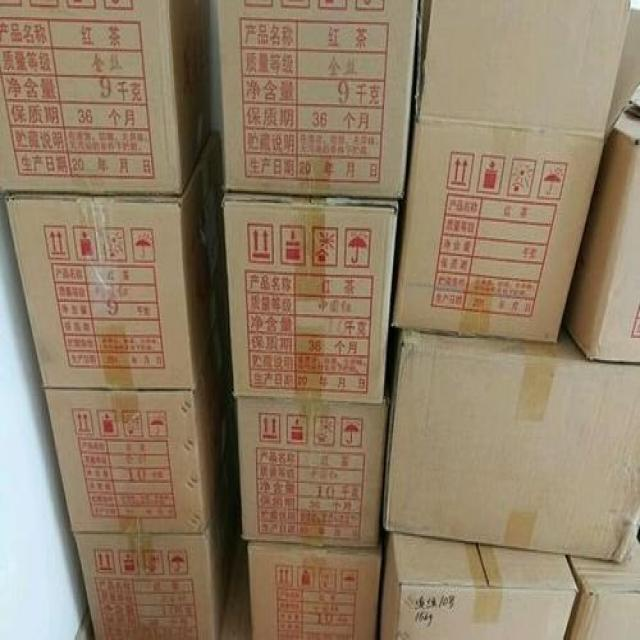box: (390, 2, 633, 348), (385, 333, 640, 563), (5, 133, 227, 391), (44, 319, 238, 531), (216, 0, 419, 201), (221, 189, 399, 406), (72, 480, 239, 640), (238, 393, 390, 548), (378, 534, 579, 640), (564, 85, 640, 364), (248, 539, 380, 640), (567, 538, 640, 640)
